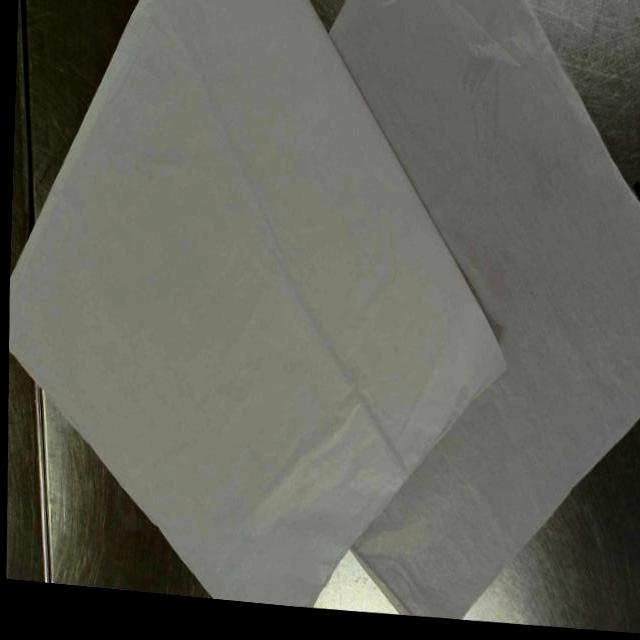General: (6, 3, 639, 627)
